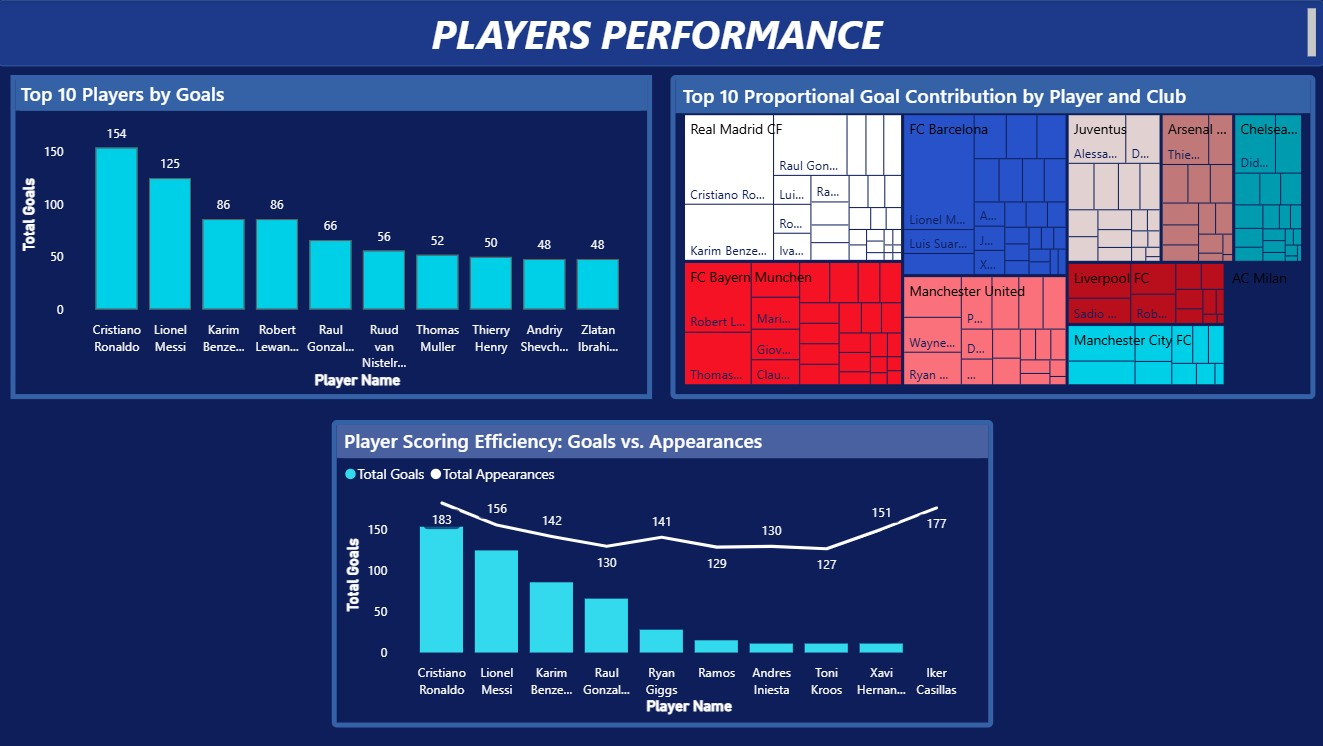

The dashboard page shown, as its layout file describes it:
{"tool":"powerbi","page":{"name":"Page 3","canvas":[1280,720],"ordinal":2},"visuals":[{"type":"textbox","box":[0,0,1280,63.9],"z":0},{"type":"columnChart","title":"Top 10 Players by Goals","fields":{"Category":["ucl dim_player.player_name"],"Y":["Sum(ucl fact_player_goals_total.goals)"]},"box":[12.1,72.4,618.9,312.5],"z":1000},{"type":"treemap","title":"Top 10 Proportional Goal Contribution by Player and Club","fields":{"Group":["ucl dim_club.club_name"],"Values":["ucl fact_player_goals_total.Total Goals"],"Details":["ucl dim_player.player_name"]},"box":[649.1,72.4,622.5,312.5],"z":2000},{"type":"lineClusteredColumnComboChart","title":"Player Scoring Efficiency: Goals vs. Appearances","fields":{"Category":["ucl dim_player.player_name"],"Y":["ucl fact_player_goals_total.Total Goals"],"Y2":["ucl fact_player_appearances_total.Total Appearances"]},"box":[322.1,405.4,638.2,296.8],"z":3000}]}

Visuals, with their boxes in screenshot pixels (x1, y1, x2, y2), scaled from the page's 1280x720 canvas onto the 1323x746 screenshot:
textbox: l=0, t=0, r=1322, b=66
"Top 10 Players by Goals" columnChart: l=13, t=75, r=652, b=399
"Top 10 Proportional Goal Contribution by Player and Club" treemap: l=671, t=75, r=1314, b=399
"Player Scoring Efficiency: Goals vs. Appearances" lineClusteredColumnComboChart: l=333, t=420, r=993, b=728
